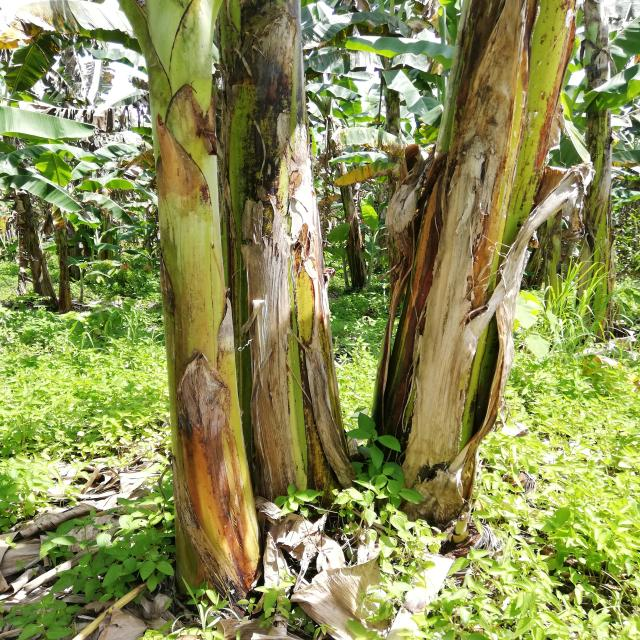Banana-plant: (349, 0, 581, 537), (121, 8, 267, 604), (210, 1, 358, 510)
